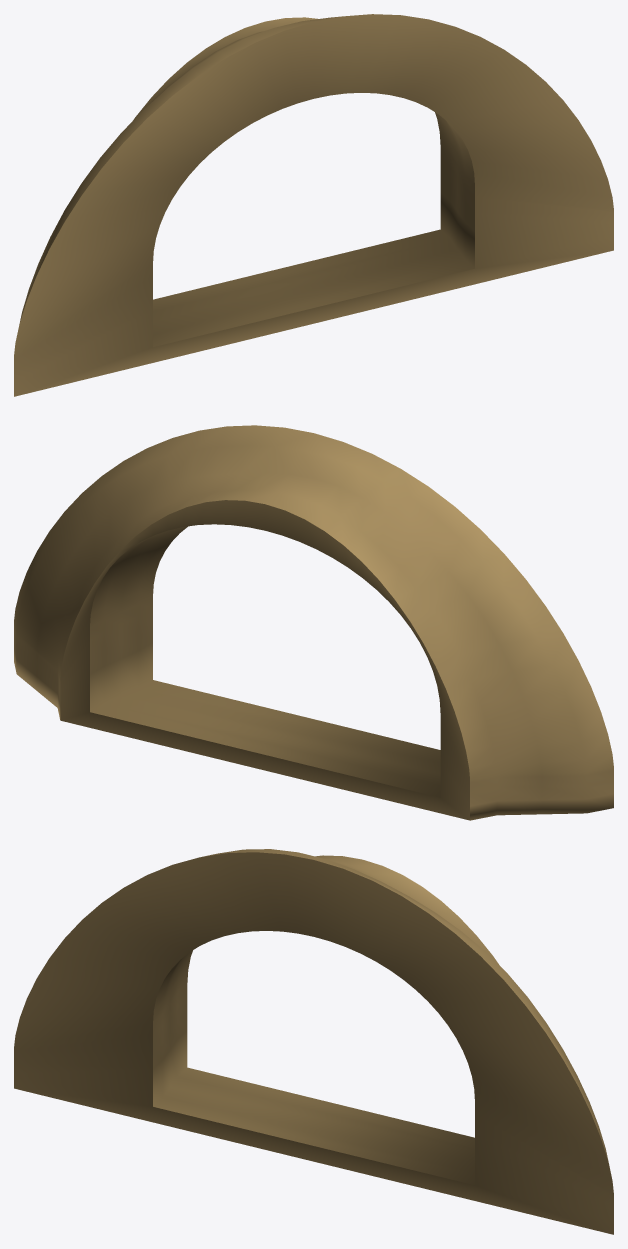
The model's file is portal_exit_terrain.glb.
3 views of the same model, one above another, from view 1: azimuth 30°, elevation 25°; view 2: azimuth 150°, elevation 25°; view 3: azimuth 330°, elevation 25° (orthographic).
Parts seen in each view (by area): view 1: TerrainRoof.002; view 2: TerrainRoof.002; view 3: TerrainRoof.002.
Part boxes in pixels (box(x1,y1,x2,y2)): TerrainRoof.002: box(14, 14, 613, 396); TerrainRoof.002: box(14, 425, 613, 820); TerrainRoof.002: box(14, 849, 613, 1234).
Size of the model in its own units: 28.4 by 13.65 by 4.
